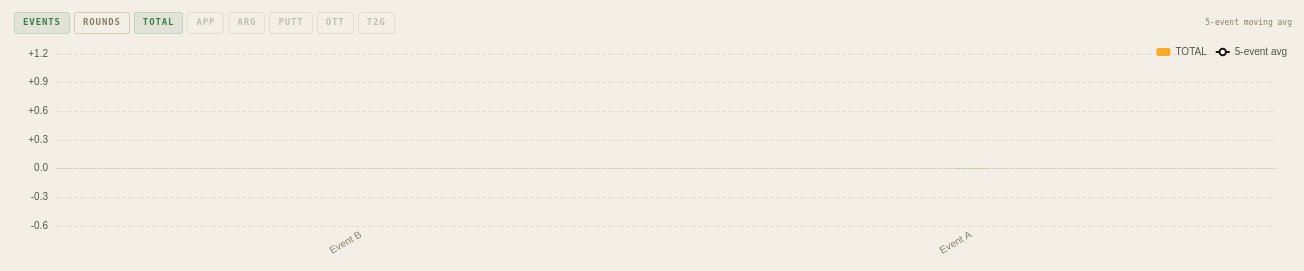
Test: RollingBarLine › enables round-series tabs when rounds view has data
Click the button "ROUNDS".
click(102, 23)  # box [74,12,130,34]
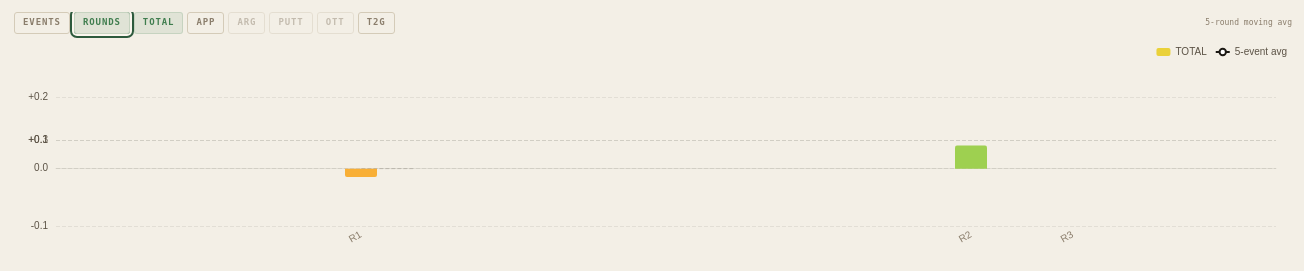
Check: the button "TOTAL" is enabled, box [134,12,183,34]
Check: the button "APP" is enabled, box [187,12,224,34]
Check: the button "T2G" is enabled, box [358,12,395,34]
